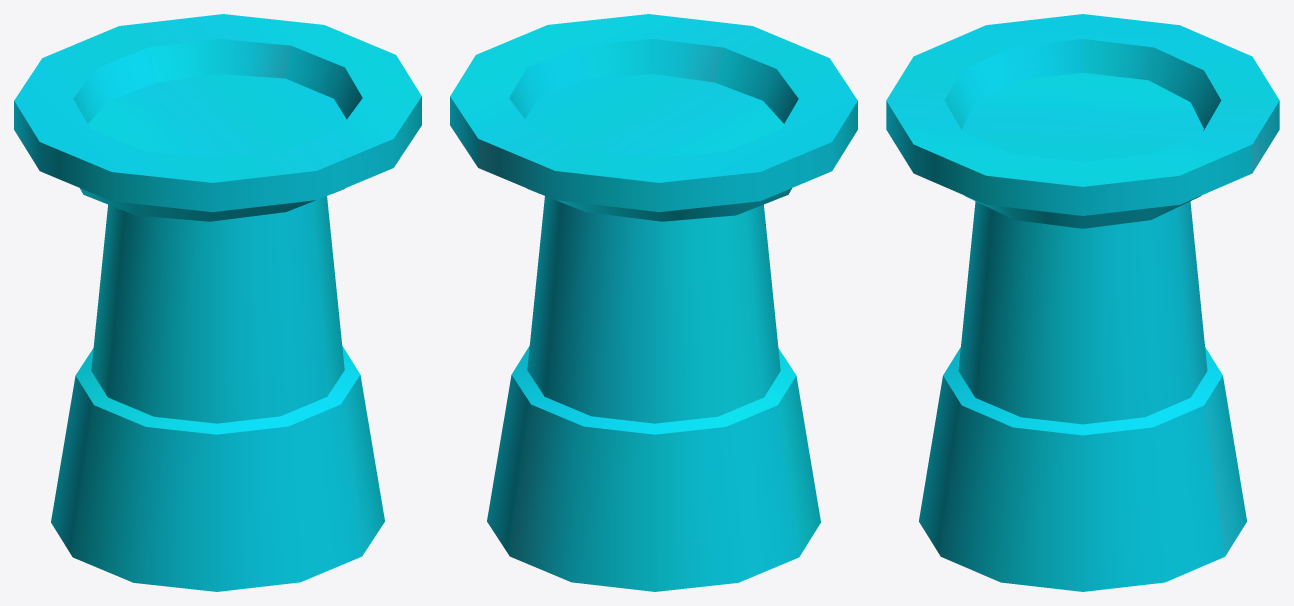
3 views of the same model, side by side, from view 1: azimuth 30°, elevation 25°; view 2: azimuth 150°, elevation 25°; view 3: azimuth 270°, elevation 25° (orthographic).
Visible parts, largest first — view 1: башня; view 2: башня; view 3: башня.
Boxes of the visible parts, left/top/right/bottom form: башня: left=14, top=14, right=421, bottom=591; башня: left=450, top=14, right=857, bottom=591; башня: left=886, top=14, right=1279, bottom=591.
Bounding box in the file's own units: 356 × 404 × 342.
